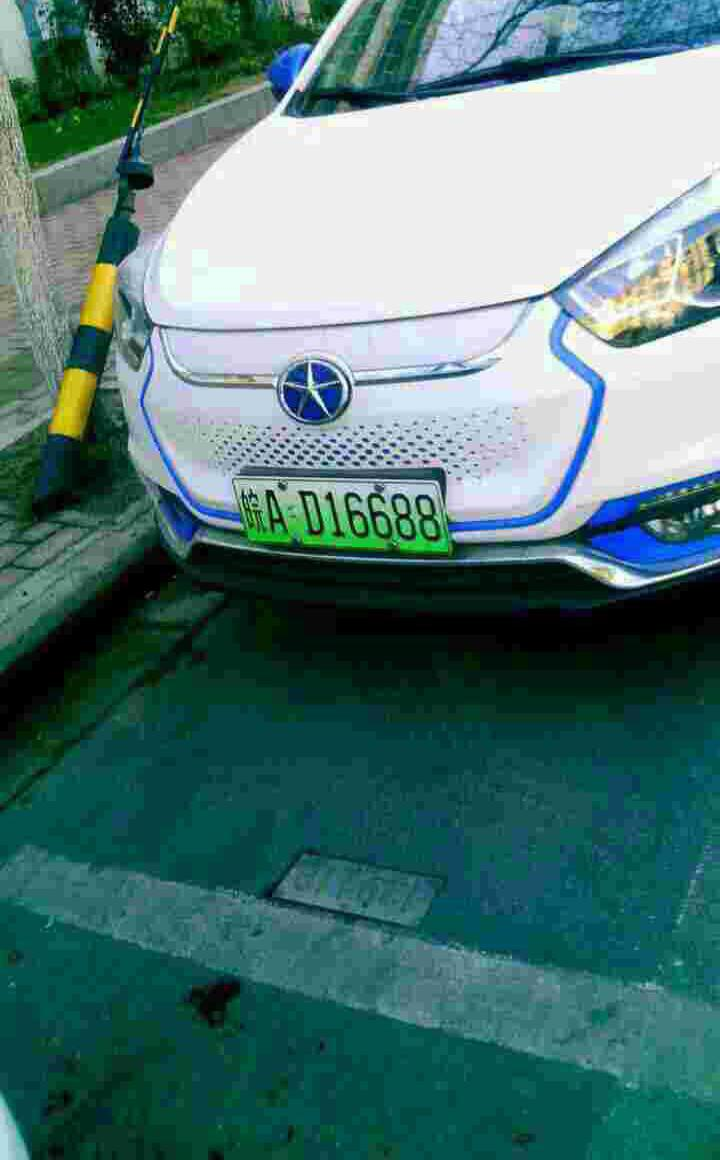car_id: (228, 474, 450, 550)
